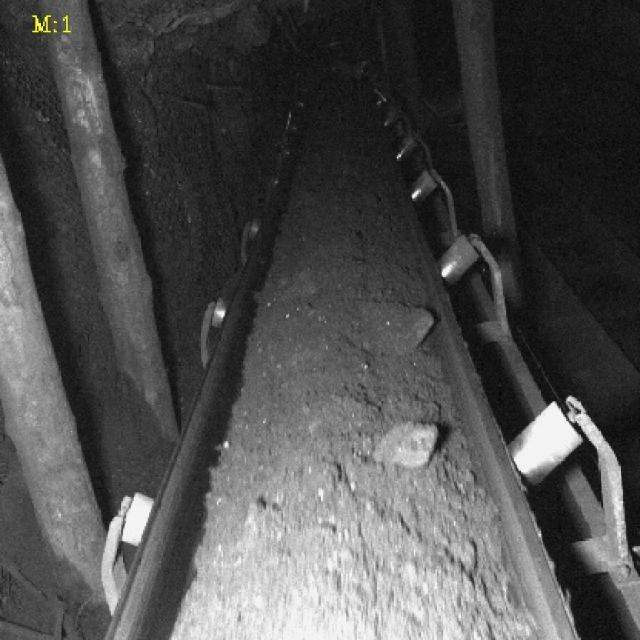large_sized_coal: (352, 300, 436, 357), (375, 420, 443, 466)
